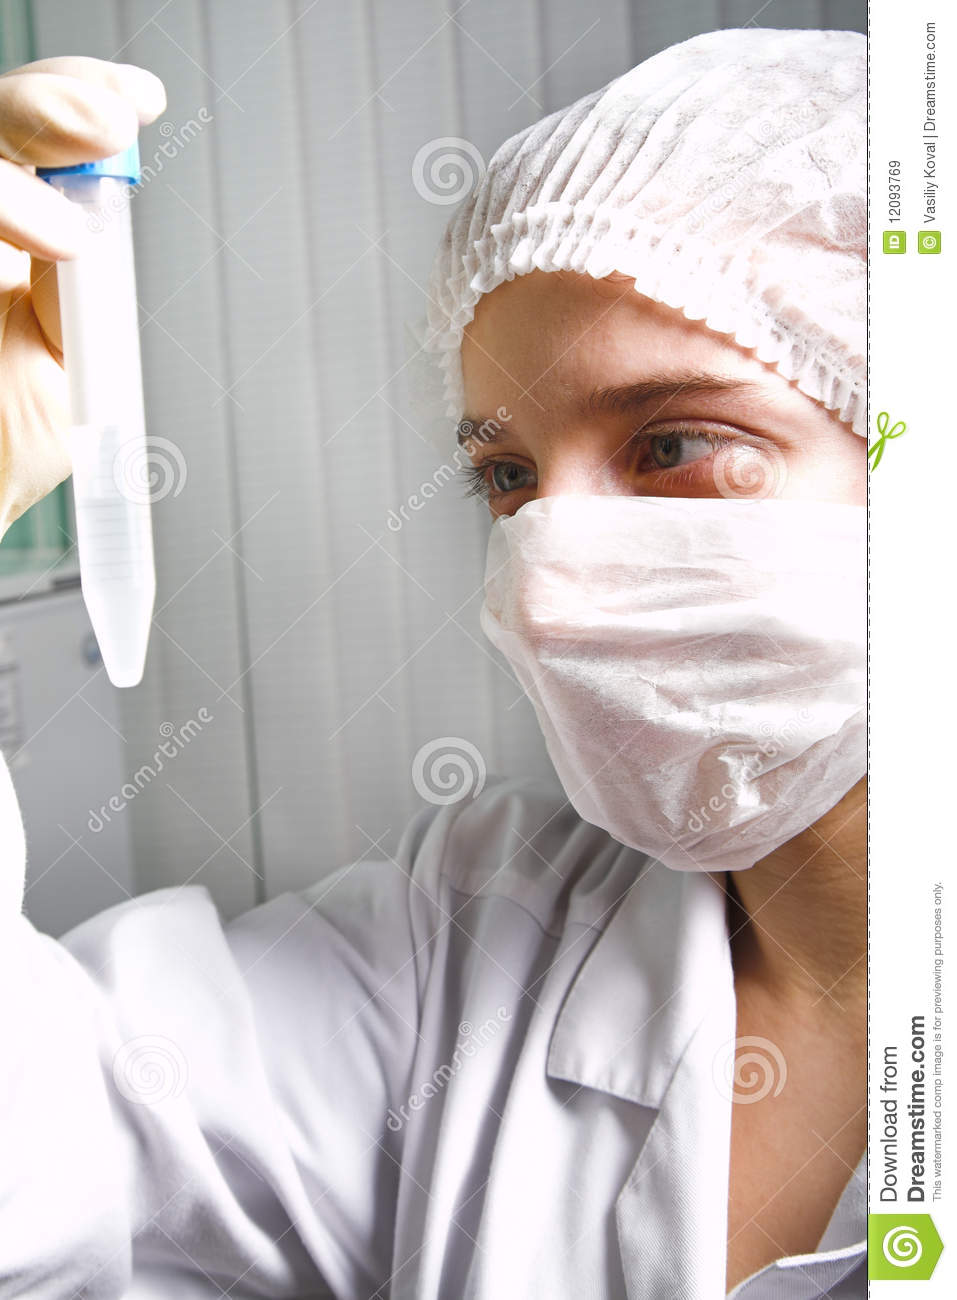mask: (468, 501, 860, 875)
